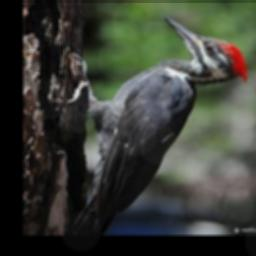Woodpecker: (66, 15, 248, 233)
